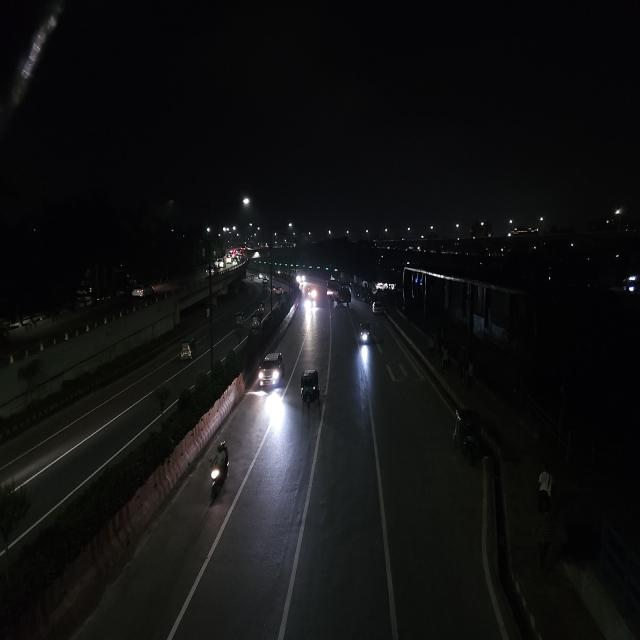bus: (328, 281, 352, 307)
car: (256, 349, 286, 392), (371, 299, 385, 317), (306, 284, 318, 300), (205, 266, 216, 280), (260, 276, 270, 287), (272, 285, 281, 295)
cng: (451, 404, 487, 469), (298, 366, 322, 410), (176, 336, 198, 365), (358, 319, 372, 348), (250, 311, 262, 331), (234, 309, 246, 327)
motorcycle: (204, 437, 233, 508)
